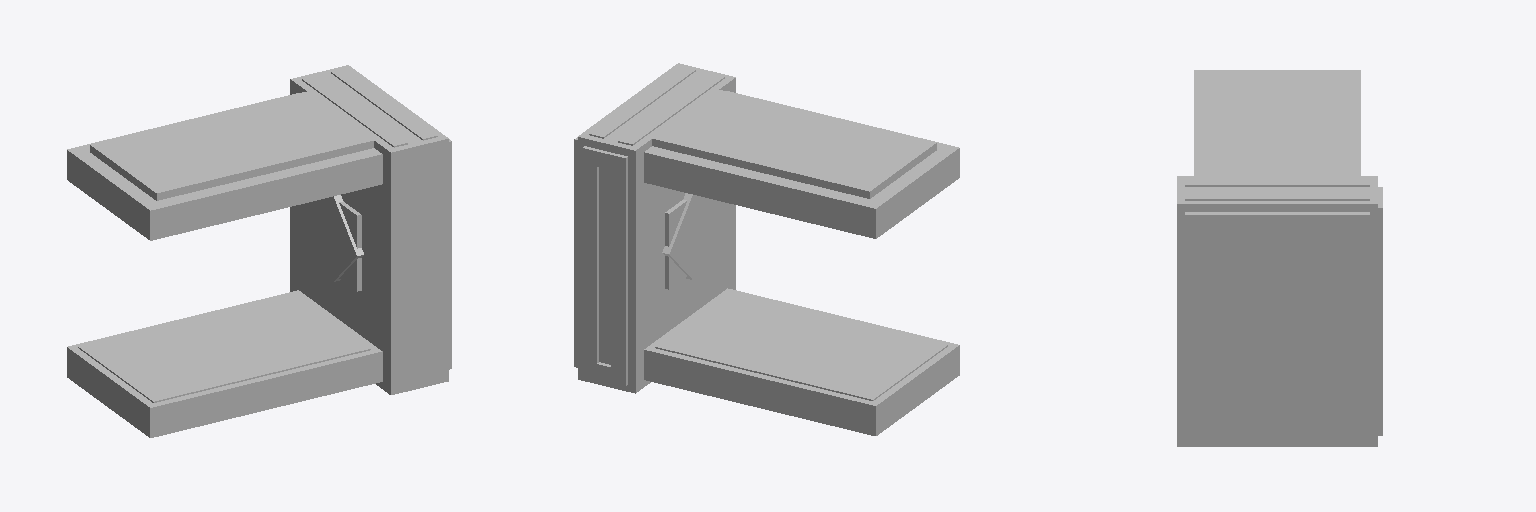
Rendered from printer.obj.
3 views of the same model, side by side, from view 1: azimuth 30°, elevation 25°; view 2: azimuth 150°, elevation 25°; view 3: azimuth 270°, elevation 25° (orthographic).
Parts seen in each view (by area): view 1: towerMain, printerLaserdown, holderUp, printerUp, printerDown, printerDetail, lightRight, shape16, detail, towerSide; view 2: towerMain, printerLaserdown, holderUp, printerUp, printerDown, readerLeft, readerRight, printerDetail, lightRight, shape16, detail, towerSide; view 3: towerSide, holderUp, towerMain, printerUp, lightRight, shape16, readerRight.
Part boxes in pixels (x1,y1,x2,y2): towerMain: (290,65,448,394); printerLaserdown: (78,294,370,402); holderUp: (90,92,373,200); printerUp: (67,93,382,240); printerDown: (67,290,382,437); printerDetail: (310,195,363,281); lightRight: (331,68,437,140); shape16: (302,75,407,147); detail: (315,197,361,291); towerSide: (449,139,451,369); towerMain: (578,63,735,393); printerLaserdown: (655,292,947,400); holderUp: (652,90,936,198); printerUp: (644,91,959,238); printerDown: (644,288,959,435); readerLeft: (611,153,627,385); readerRight: (582,146,598,378); printerDetail: (662,193,716,279); lightRight: (589,66,695,138); shape16: (618,74,724,145); detail: (665,195,710,289); towerSide: (574,137,577,367); towerSide: (1185,212,1369,442); holderUp: (1210,70,1343,175); towerMain: (1177,176,1377,446); printerUp: (1194,70,1360,175); lightRight: (1185,192,1369,200); shape16: (1185,178,1369,186); readerRight: (1378,201,1382,435).
Bounding box in the file's own units: 1.28 × 1.01 × 0.7688.